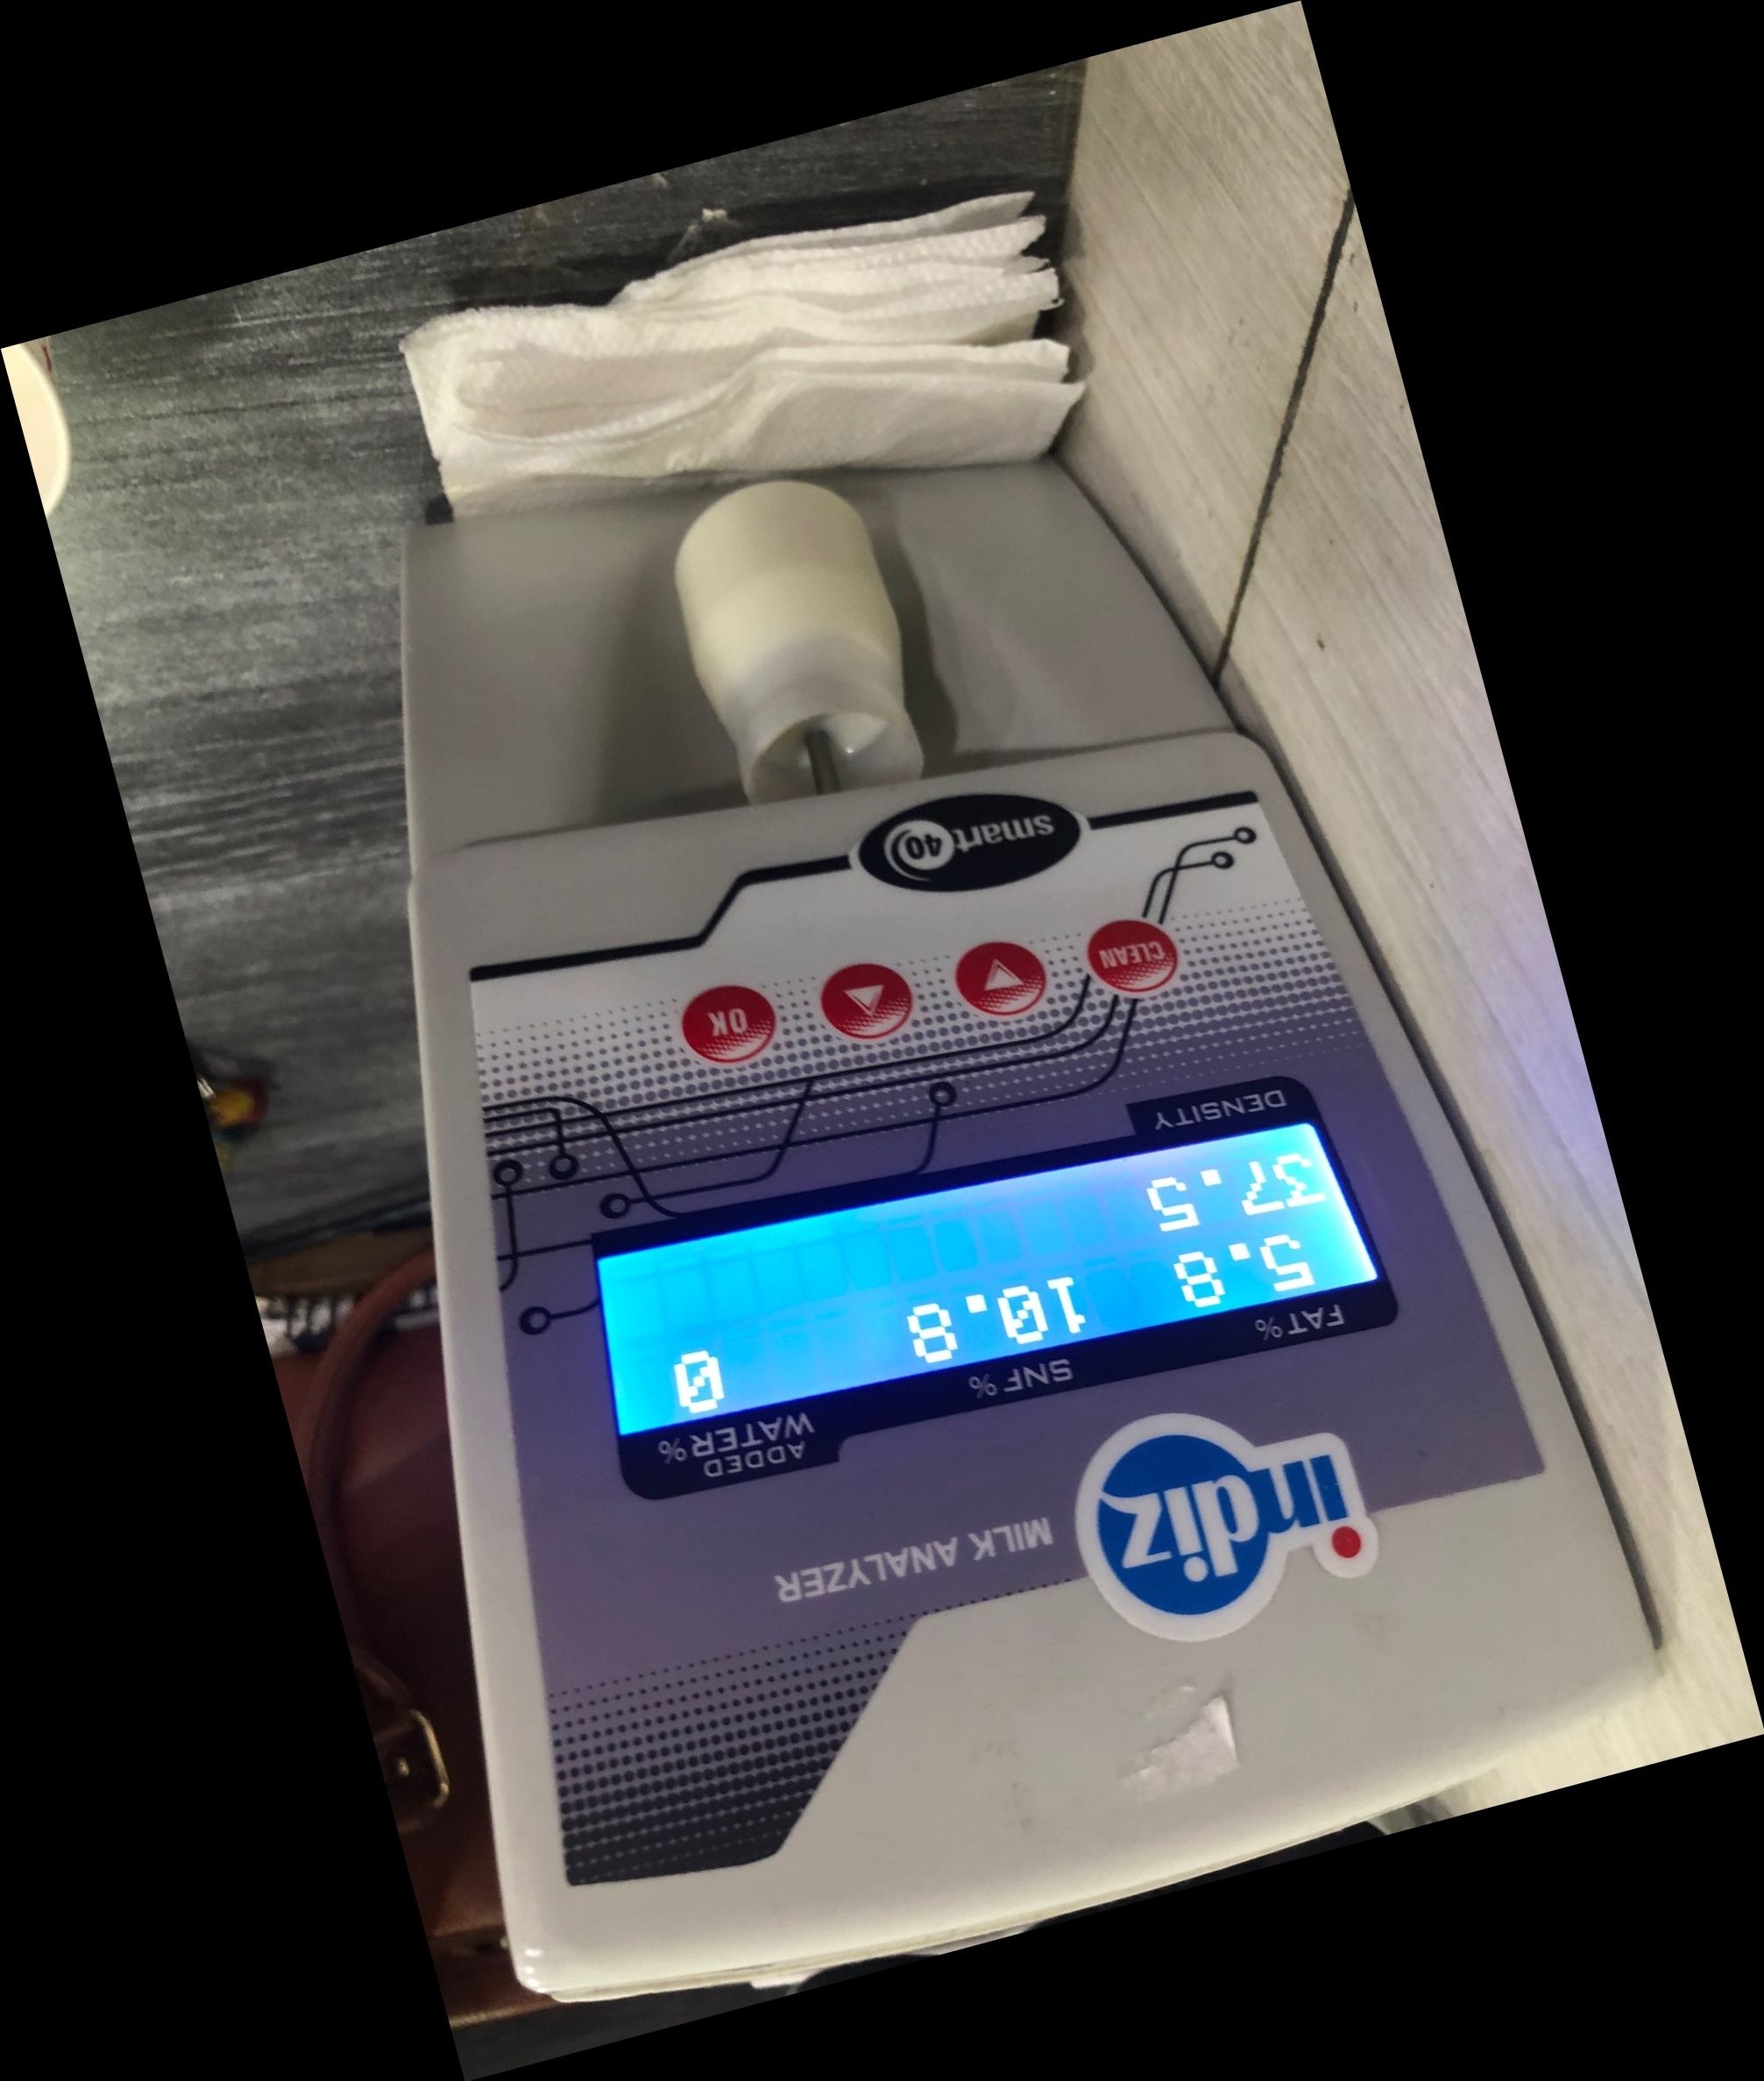lcd: (567, 1066, 1421, 1510)
